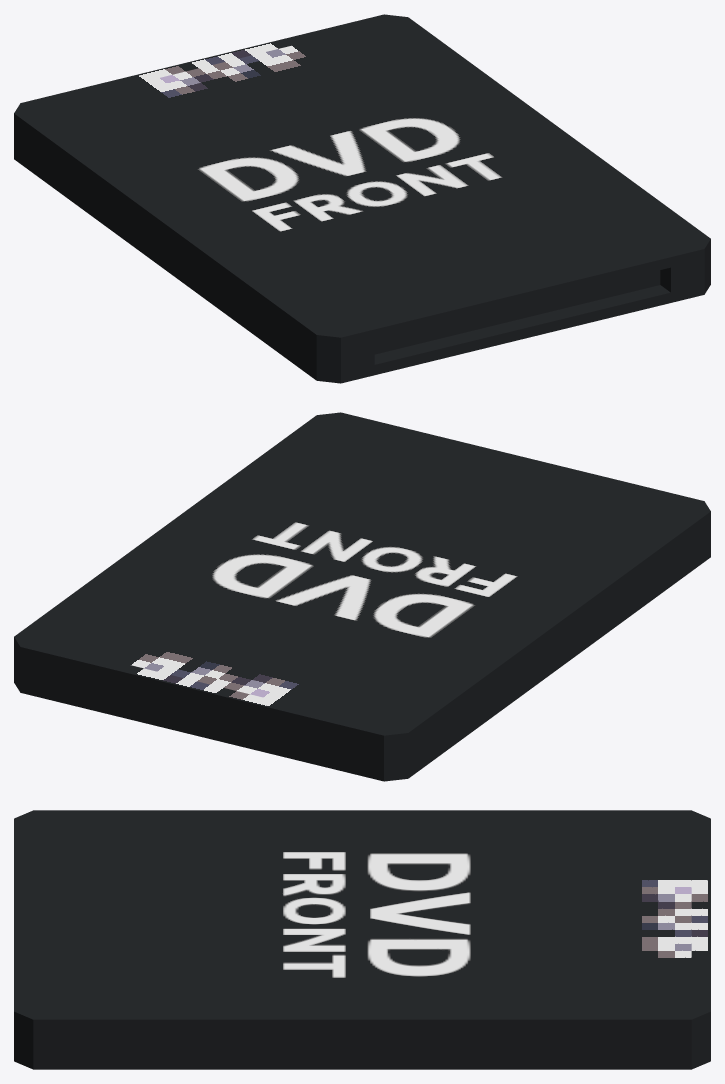
File: DVDBox.fbx
The picture shows the model from 3 angles, top to bottom: view 1: azimuth 30°, elevation 25°; view 2: azimuth 150°, elevation 25°; view 3: azimuth 270°, elevation 25°; orthographic projection. The views are drawn at different scales.
Parts seen in each view (by area): view 1: DVDCover, DVDBox; view 2: DVDCover, DVDBox; view 3: DVDCover, DVDBox.
Boxes of the visible parts, <box> form: DVDCover: <box>38,35,703,374</box>; DVDBox: <box>14,14,710,383</box>; DVDCover: <box>38,420,703,760</box>; DVDBox: <box>14,412,710,781</box>; DVDCover: <box>49,810,638,1069</box>; DVDBox: <box>14,810,710,1069</box>.
Bounding box in the file's own units: 0.135 × 0.015 × 0.19.
2 materials, 2 textured.
